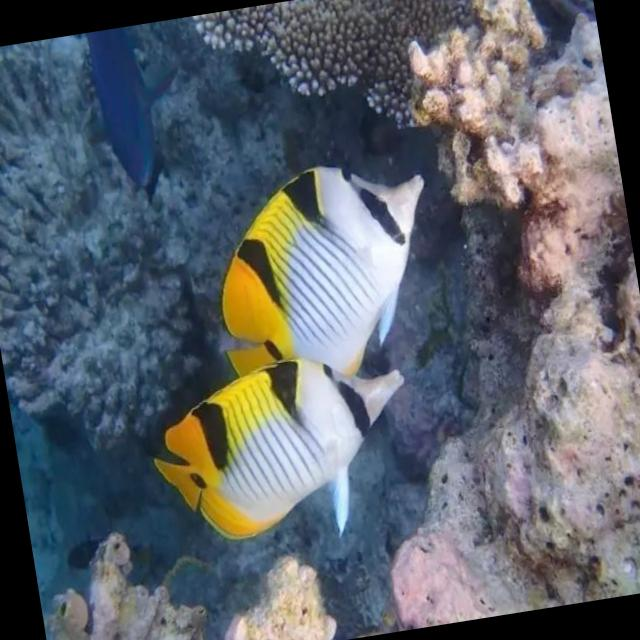ButterflyFish: (197, 146, 450, 388), (144, 344, 425, 558)
